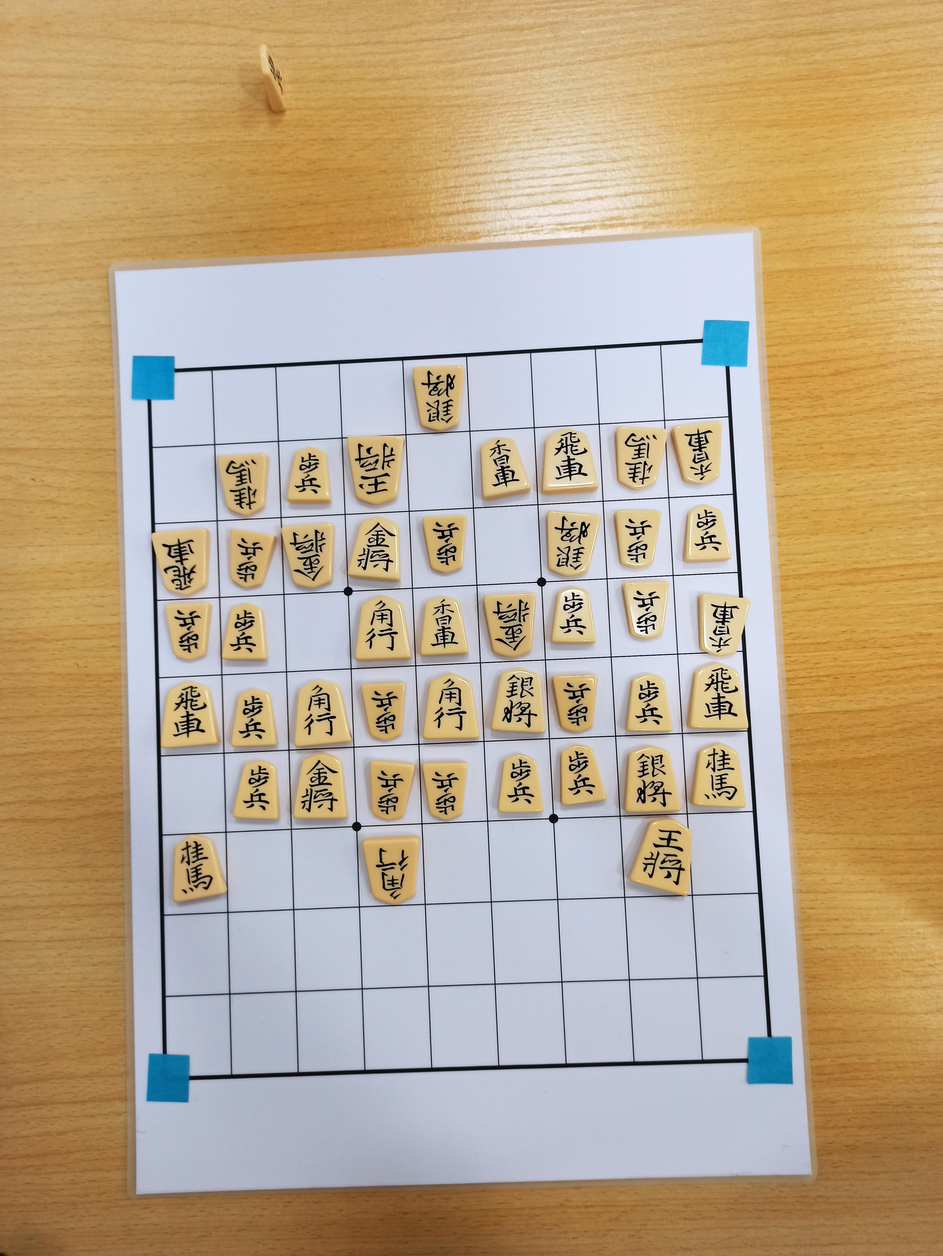board: (148, 340, 773, 1077)
